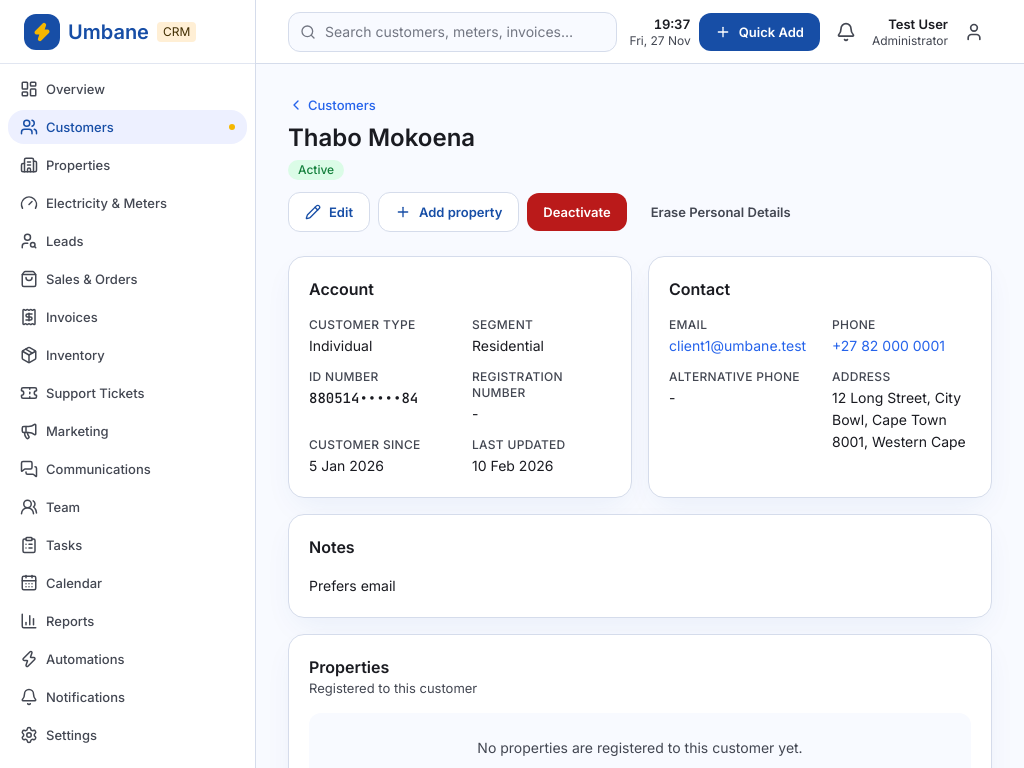
Scenario: erasing a customer › needs a reason, then erases and reloads
The width and height of the screenshot is (1024, 768).
Step 1. Click the button "Erase Personal Details" → (721, 212), box [635,193,807,231]
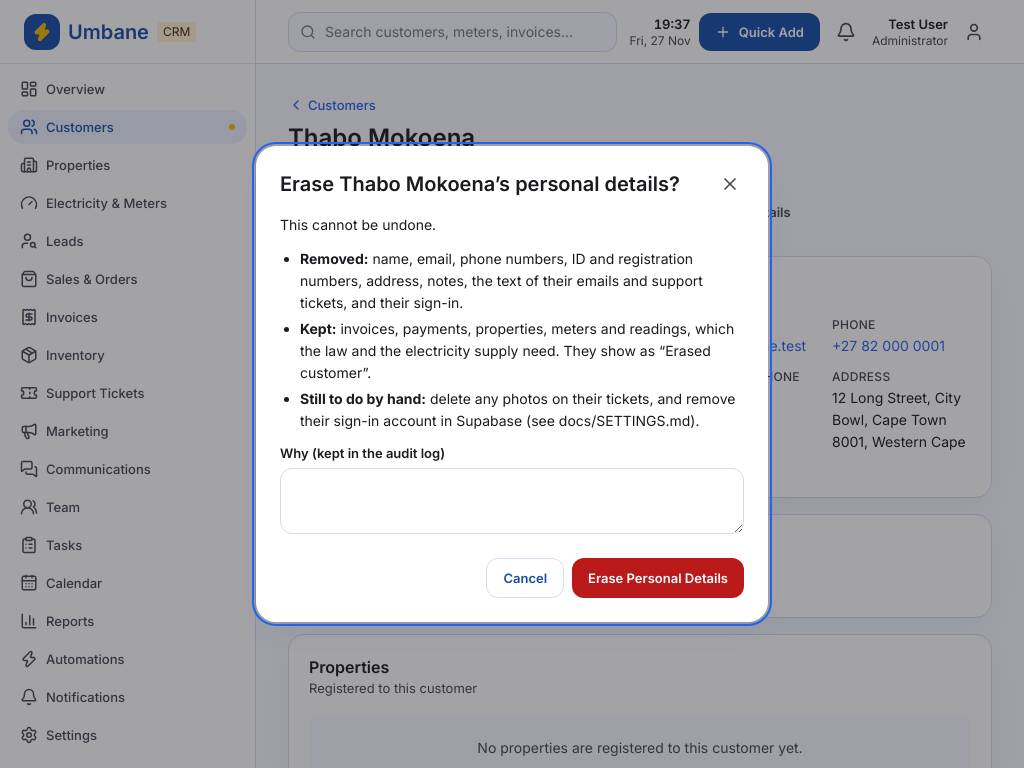
Expected: the text "This cannot be undone." is shown, [280,216,436,233]
Step 2. Click the button "Erase Personal Details" → (658, 578), box [572,558,744,598]
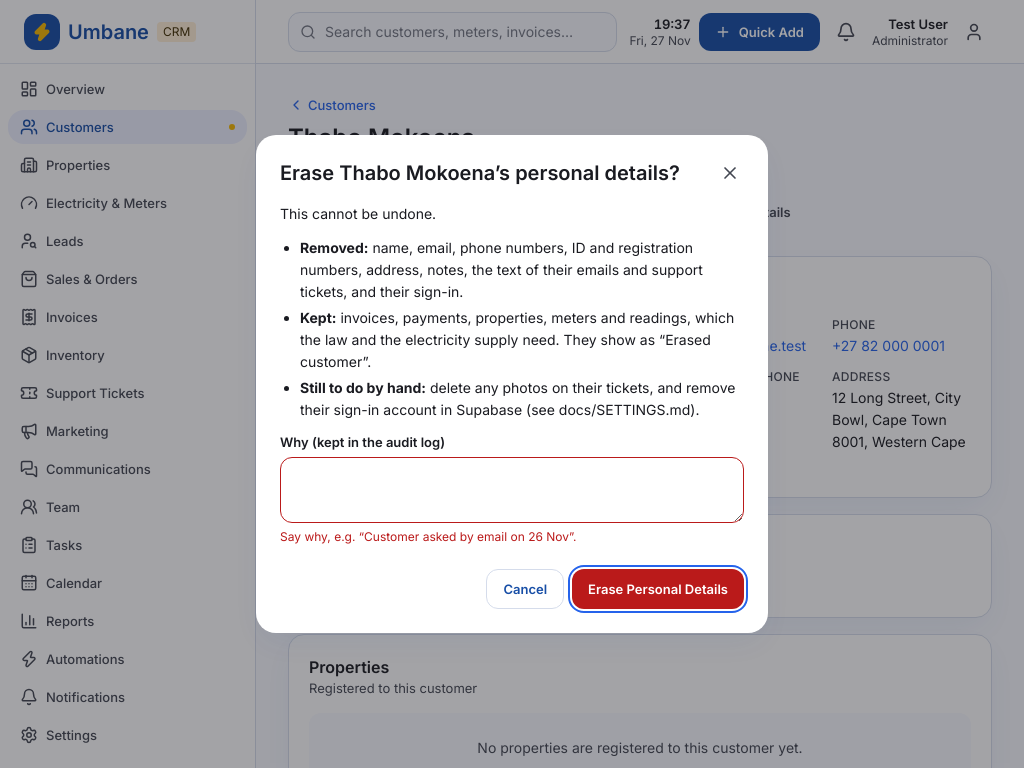
Expected: the text "Say why, e.g. “Customer asked by email on 26 Nov”." is shown, [280,529,577,544]
Step 3. Type "Asked by email on 26 Nov" into the text box labelled "Why (kept in the audit log)" → (512, 490), box [280,457,744,523]
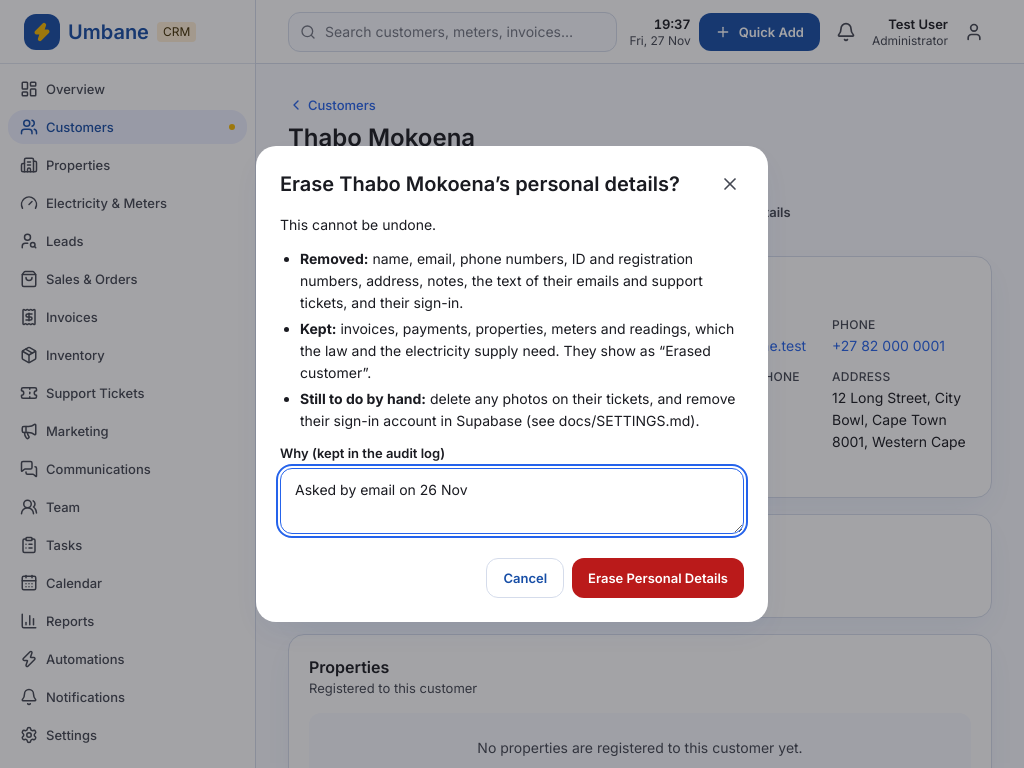
Step 4. Click the button "Erase Personal Details" → (658, 578), box [572,558,744,598]
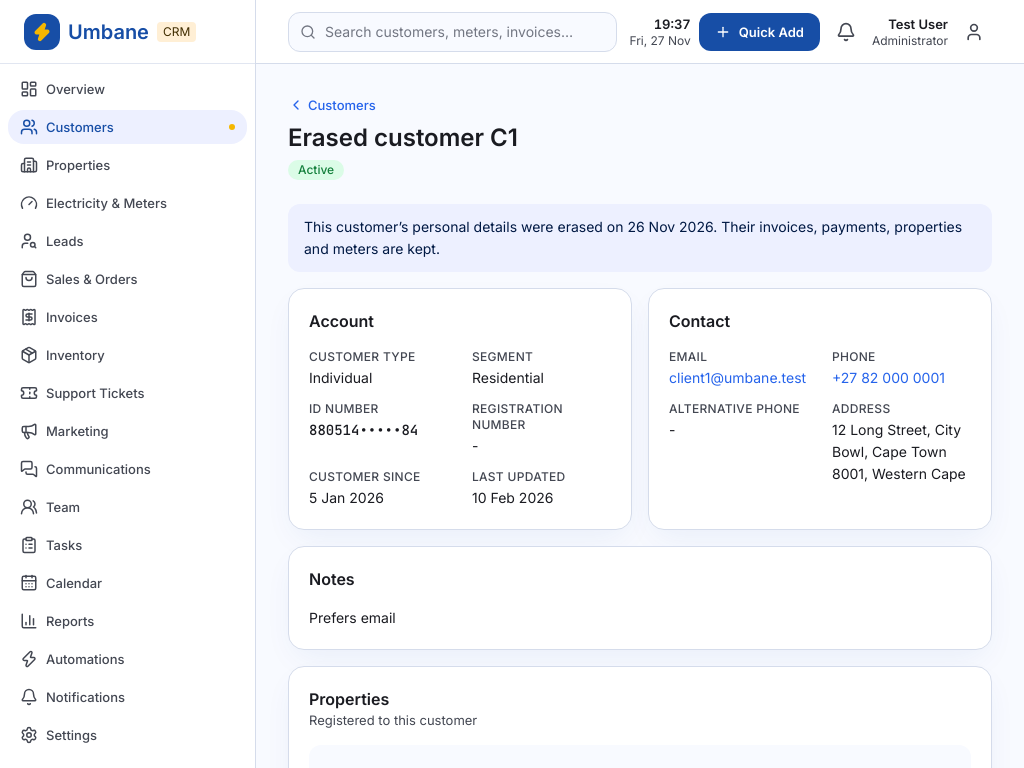
Expected: the text "personal details were erased on 26 Nov 2026" is shown, [288,204,992,272]
Expected: the link "Edit" is gone
